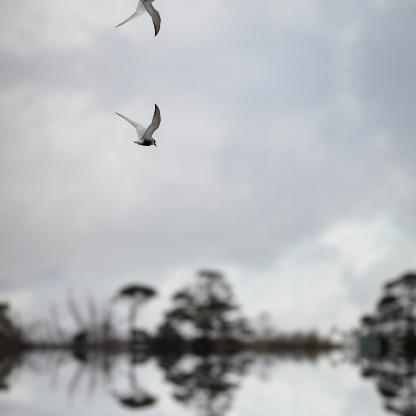Bird: (113, 102, 164, 146), (113, 0, 165, 37)
